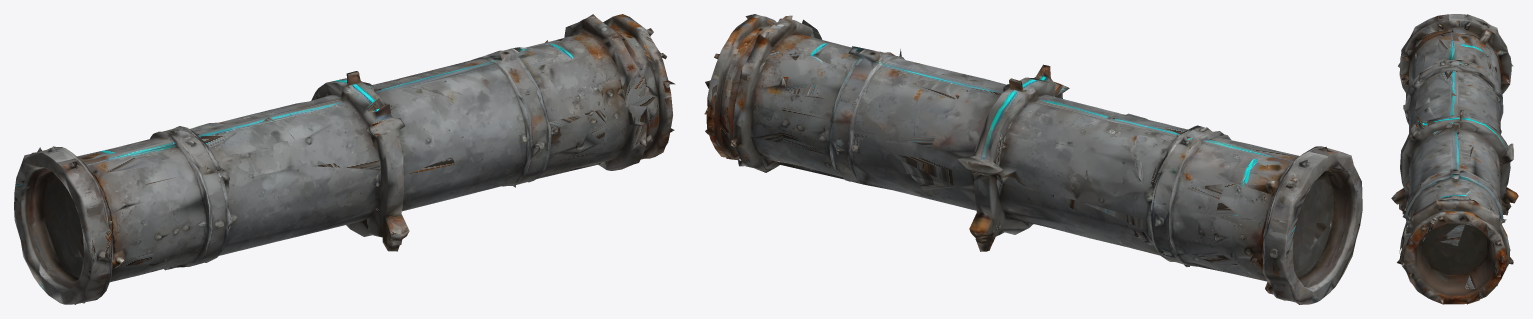
File: pipe.glb
3 renders of one model, left to right at view 1: azimuth 30°, elevation 25°; view 2: azimuth 150°, elevation 25°; view 3: azimuth 270°, elevation 25°, orthographic. The views are drawn at different scales.
Visible parts, largest first — view 1: tripo_node_370247b4-5f13-48e1-af72-94f8c02fa53e; view 2: tripo_node_370247b4-5f13-48e1-af72-94f8c02fa53e; view 3: tripo_node_370247b4-5f13-48e1-af72-94f8c02fa53e.
Part boxes in pixels (x1,y1,x2,y2): tripo_node_370247b4-5f13-48e1-af72-94f8c02fa53e: (14, 14, 675, 304); tripo_node_370247b4-5f13-48e1-af72-94f8c02fa53e: (704, 14, 1362, 304); tripo_node_370247b4-5f13-48e1-af72-94f8c02fa53e: (1391, 14, 1518, 304).
Size of the model in its own units: 1 by 0.2447 by 0.2697.
1 material, 1 textured.
